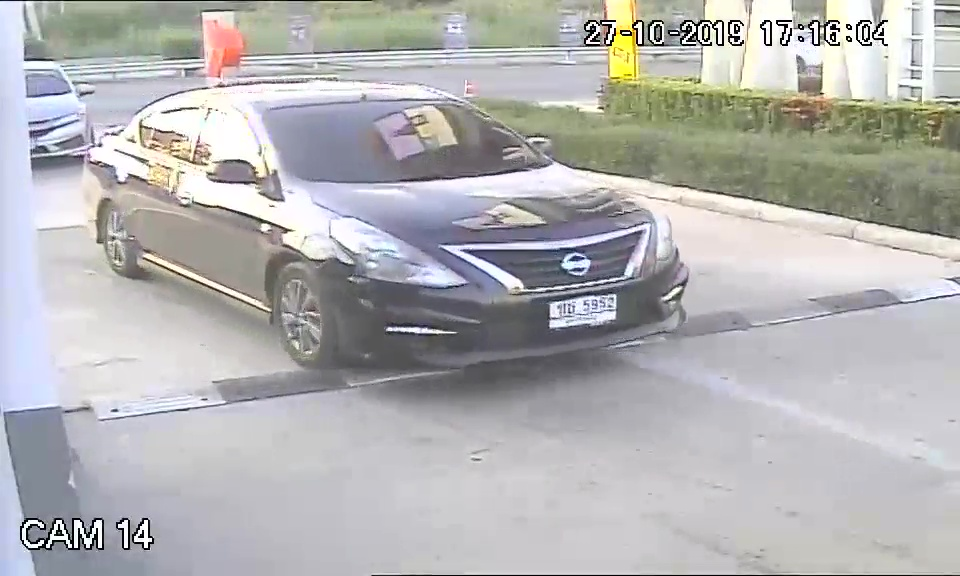sedan: (83, 80, 686, 375)
